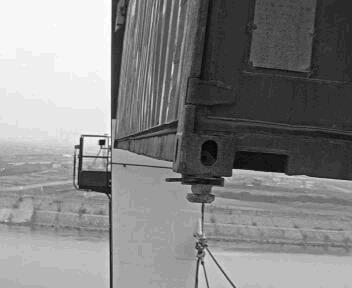twist_lock_1: (172, 170, 232, 212)
